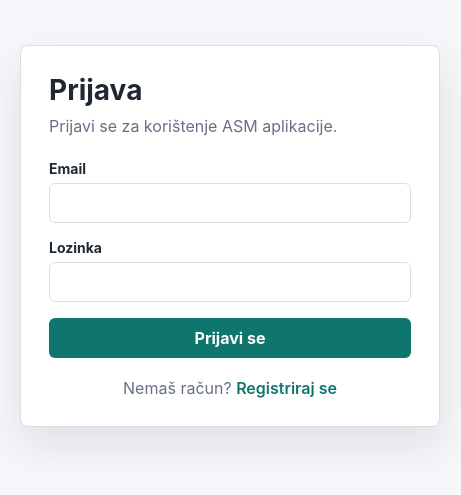
Test: LoginPage › shows an error message when login fails
Step 1. Type "ana@example.com" into the field labelled "Email" → (230, 203), box [49, 183, 411, 223]
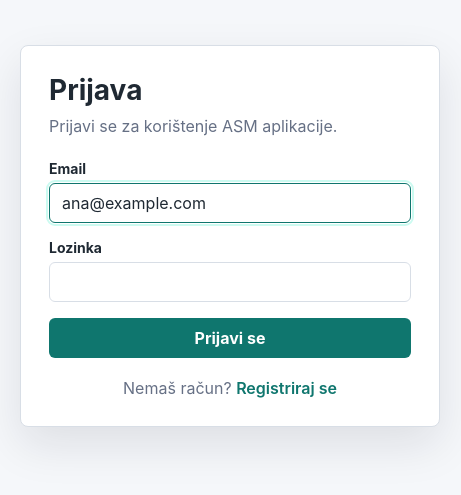
Step 2. Type "kriva-lozinka" into the password field labelled "Lozinka" → (230, 282), box [49, 262, 411, 302]
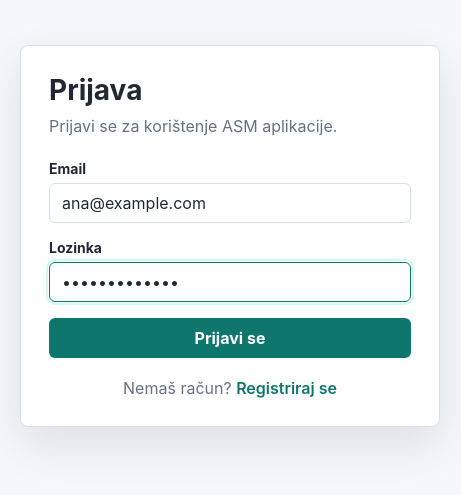
Step 3. Click the button "Prijavi se" → (230, 338), box [49, 318, 411, 358]
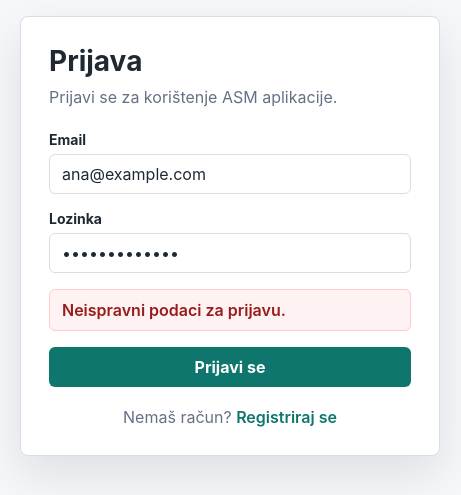
Expected: the message reads "Neispravni podaci za prijavu.", [62, 300, 286, 320]
